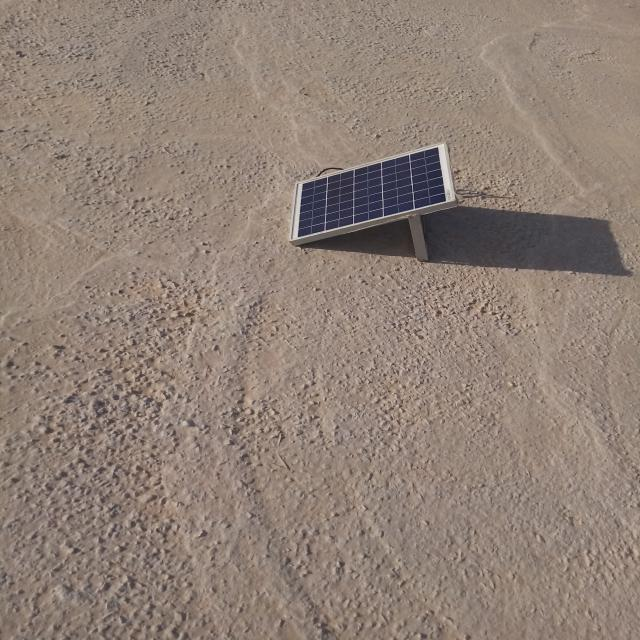no faulty: (291, 143, 455, 240)
